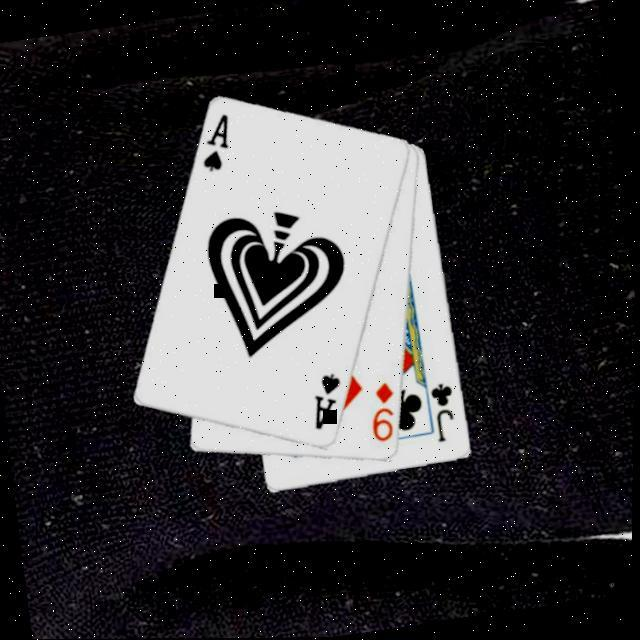9D: (362, 379, 404, 448)
AS: (192, 111, 240, 178), (306, 371, 351, 435)
JC: (426, 382, 464, 448)
